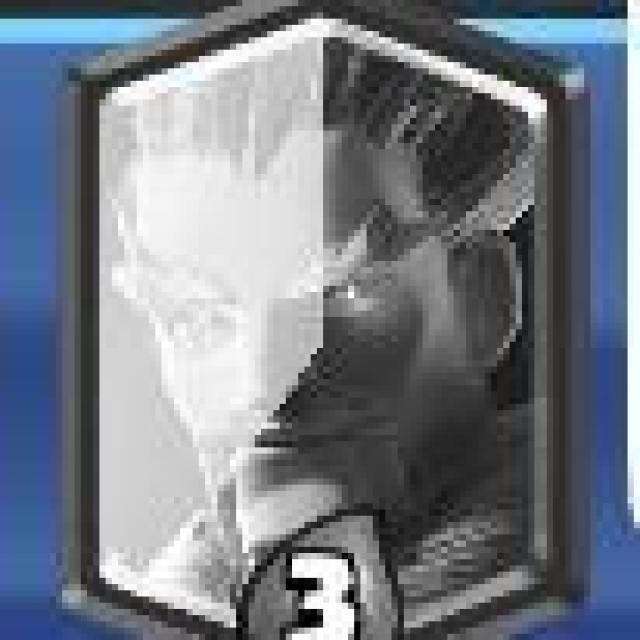Ice_Wizard: (68, 2, 579, 640)
